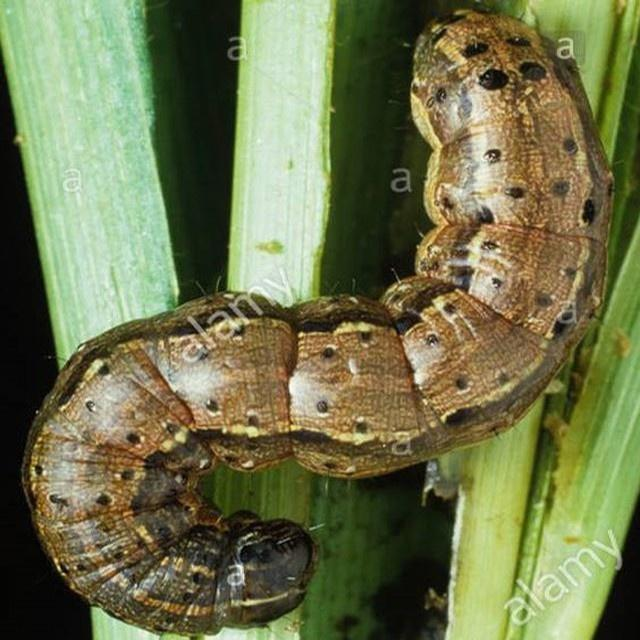Plaga: (19, 1, 618, 638)
